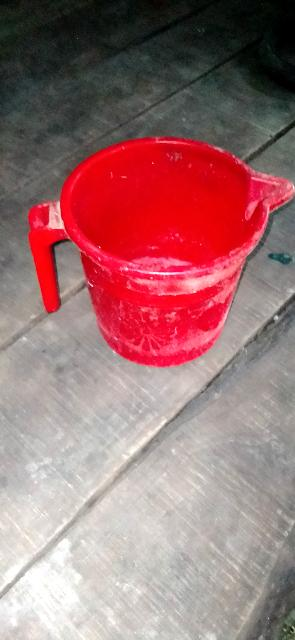hardplastic: (6, 111, 295, 372)
